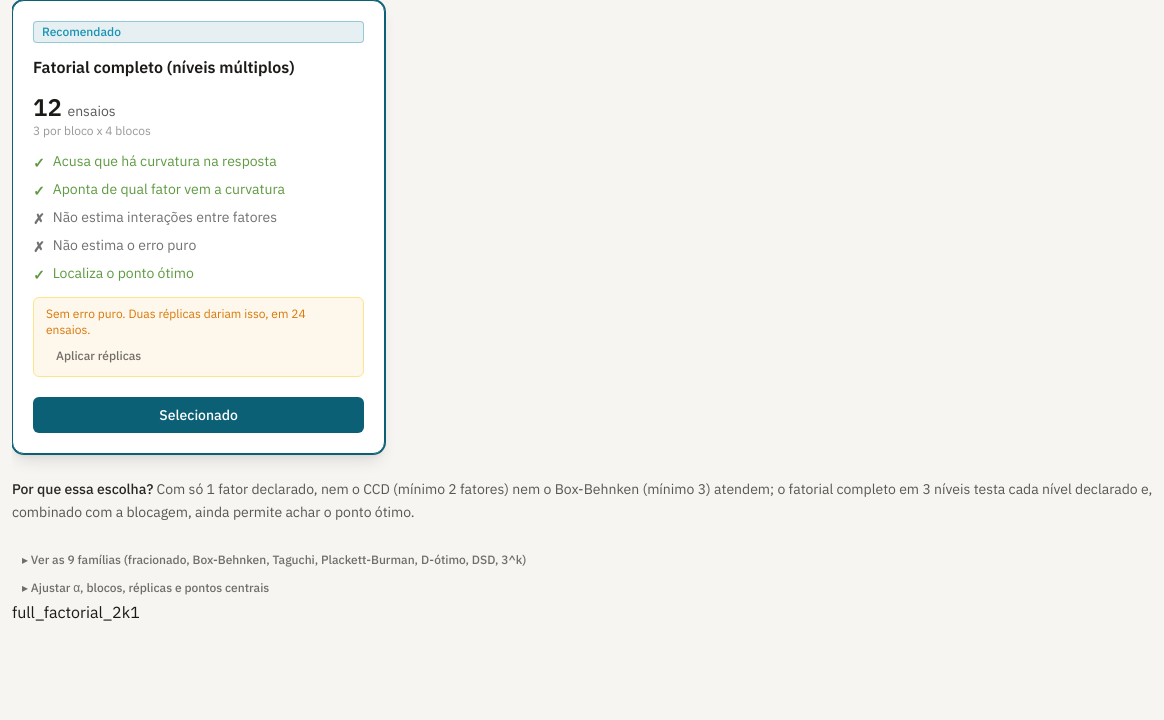
Test: VitrineDePlanos — dados reais (não fixtures): 1 fator, 3 níveis, 4 blocos › o remédio de erro puro aparece e, ao ser aplicado, leva o design a 2 réplicas
Expected: the text "Sem erro puro. Duas réplicas dariam isso, em 24 ensaios." is shown, [46, 306, 351, 338]
Click the button "Aplicar réplicas" at point(99, 356), box [46, 344, 151, 368]
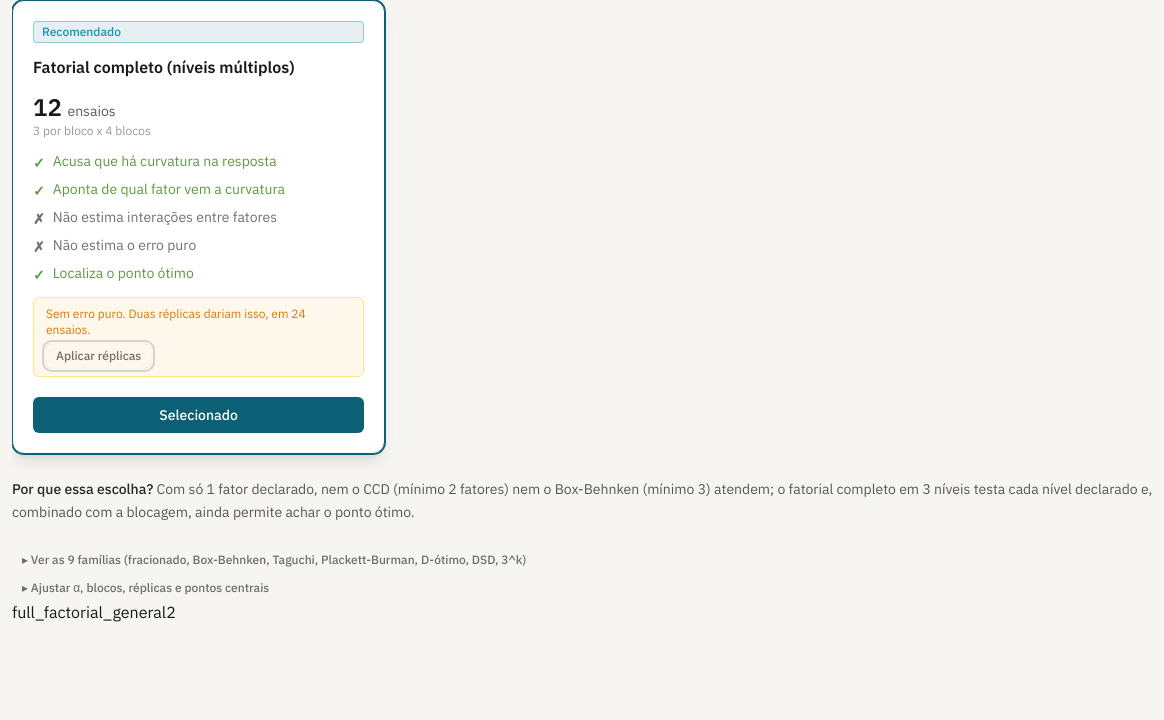
Now the text with test id "design-type" reads "full_factorial_general", box [12, 602, 166, 622]
Now the text with test id "replicates" reads "2", box [166, 602, 176, 622]
